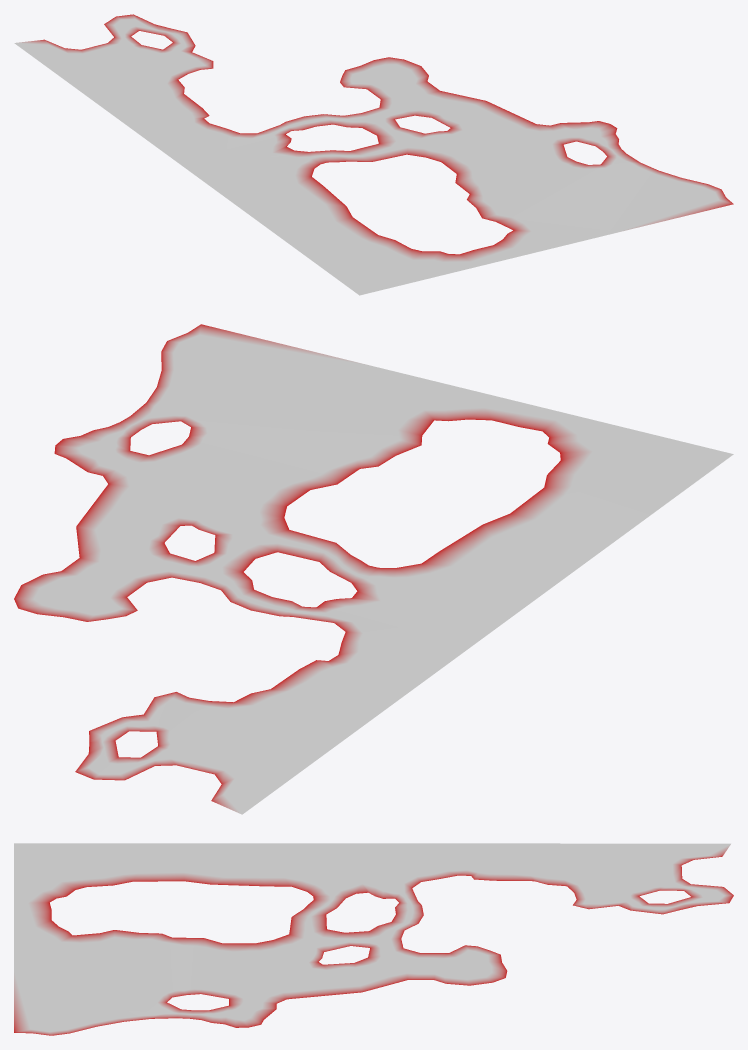
Rendered from Map_10015_water.FBX.
3 views of the same model, one above another, from view 1: azimuth 30°, elevation 25°; view 2: azimuth 150°, elevation 25°; view 3: azimuth 270°, elevation 25° (orthographic). The views are drawn at different scales.
Visible parts, largest first — view 1: Map_10015_water; view 2: Map_10015_water; view 3: Map_10015_water.
Part boxes in pixels (x1,y1,x2,y2): Map_10015_water: (14, 14, 733, 295); Map_10015_water: (14, 324, 733, 814); Map_10015_water: (14, 843, 733, 1035).
Size of the model in its own units: 8252 by 14.41 by 13032.
